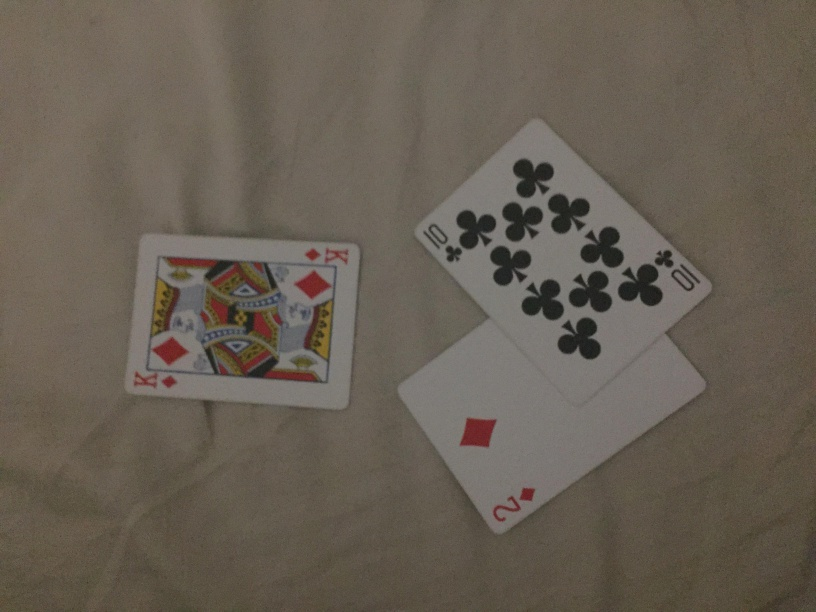10: (407, 107, 717, 409)
2: (397, 314, 708, 537)
king: (124, 225, 364, 413)
